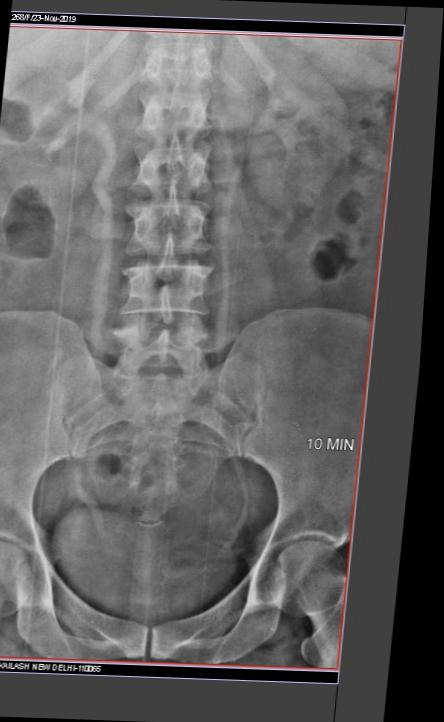vertebrae: (159, 68, 248, 126)
